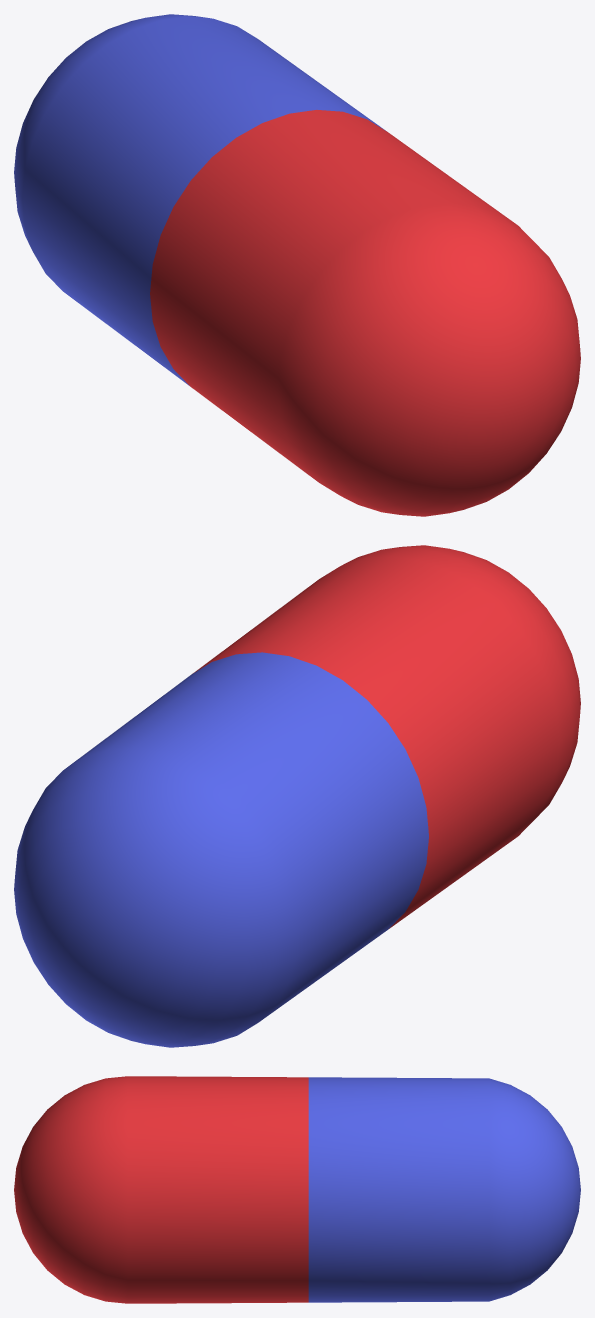
3 renders of one model, top to bottom at view 1: azimuth 30°, elevation 25°; view 2: azimuth 150°, elevation 25°; view 3: azimuth 270°, elevation 25°, orthographic. The views are drawn at different scales.
Visible parts, largest first — view 1: Sphere; view 2: Sphere; view 3: Sphere.
Boxes of the visible parts, x1,y1,x2,y2 form: Sphere: [14, 14, 580, 516]; Sphere: [14, 545, 580, 1047]; Sphere: [14, 1076, 580, 1303].
Size of the model in its own units: 200 by 200 by 498.
